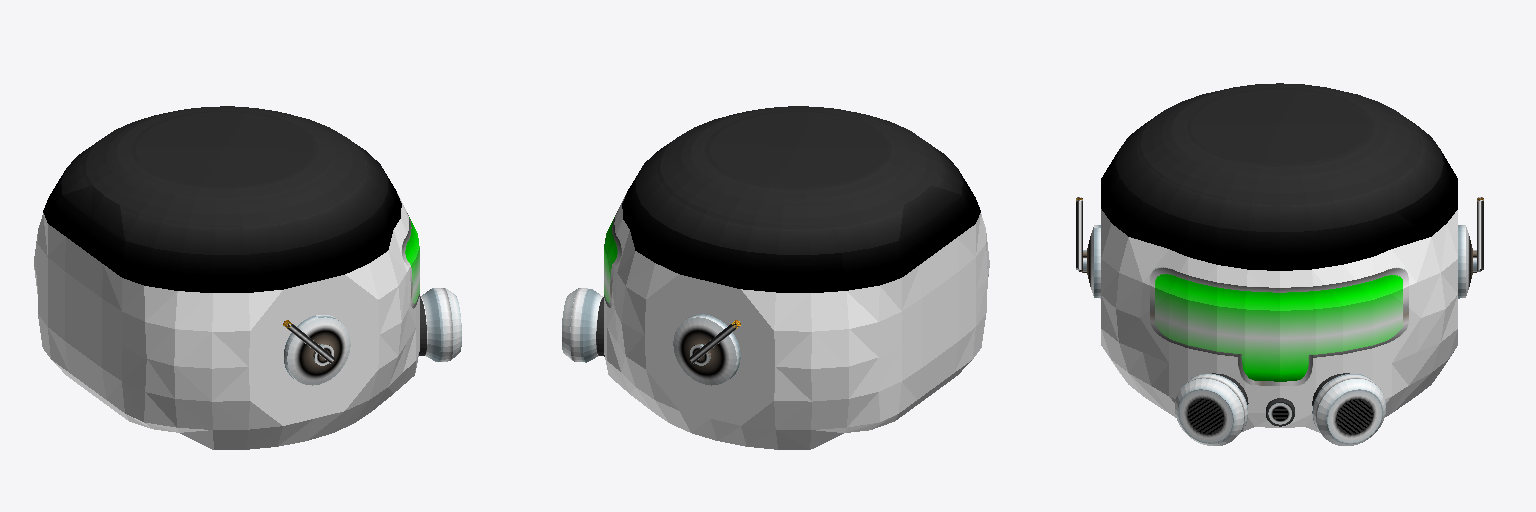
The picture shows the model from 3 angles: view 1: azimuth 30°, elevation 25°; view 2: azimuth 150°, elevation 25°; view 3: azimuth 270°, elevation 25°; orthographic projection.
Parts seen in each view (by area): view 1: Helmet_draconic_helmet.001, Respirator2_Cylinder.003, Earpiece1_Cylinder.005; view 2: Helmet_draconic_helmet.001, Respirator2_Cylinder.003, Earpiece1_Cylinder.005; view 3: Helmet_draconic_helmet.001, Respirator2_Cylinder.003, Earpiece1_Cylinder.005.
Boxes of the visible parts, <box> form: Helmet_draconic_helmet.001: <box>34,106,408,449</box>; Respirator2_Cylinder.003: <box>394,193,461,392</box>; Earpiece1_Cylinder.005: <box>283,315,350,385</box>; Helmet_draconic_helmet.001: <box>615,106,989,449</box>; Respirator2_Cylinder.003: <box>562,193,629,393</box>; Earpiece1_Cylinder.005: <box>673,314,740,385</box>; Helmet_draconic_helmet.001: <box>1101,83,1457,412</box>; Respirator2_Cylinder.003: <box>1140,249,1420,445</box>; Earpiece1_Cylinder.005: <box>1076,197,1483,298</box>.
Bounding box in the file's own units: 10.76 × 7 × 11.02.
3 materials, 3 textured.